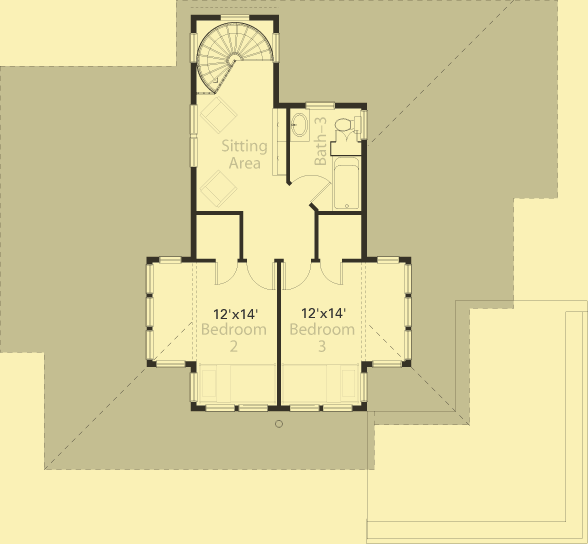bed: (197, 362, 279, 406), (282, 363, 364, 404)
door: (290, 174, 332, 208), (247, 258, 276, 294), (281, 262, 311, 292), (317, 259, 345, 289), (214, 260, 240, 286)
large_sink: (329, 112, 366, 138)
small_sink: (289, 108, 309, 144)
small_sofa: (199, 168, 237, 210), (201, 95, 239, 135)
stairs: (197, 23, 274, 95)
tub: (332, 156, 362, 212)
window: (403, 262, 413, 362), (202, 404, 277, 416), (145, 263, 154, 362), (288, 403, 353, 415), (187, 103, 198, 167)
